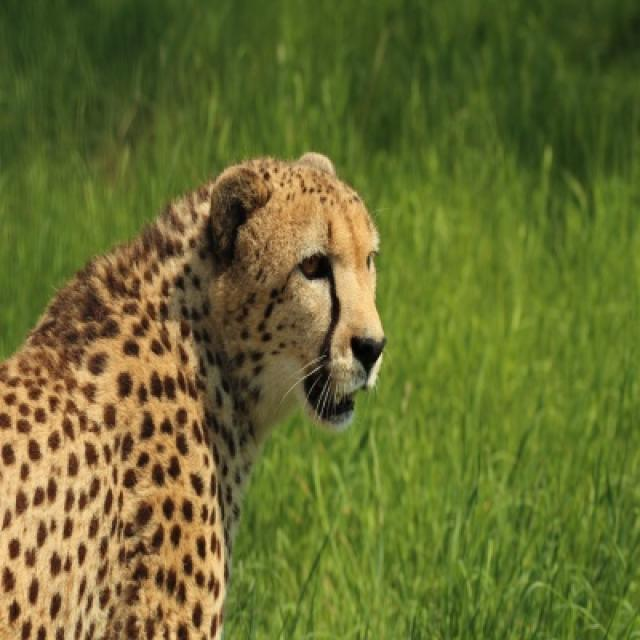Cheetah: (0, 152, 387, 638)
